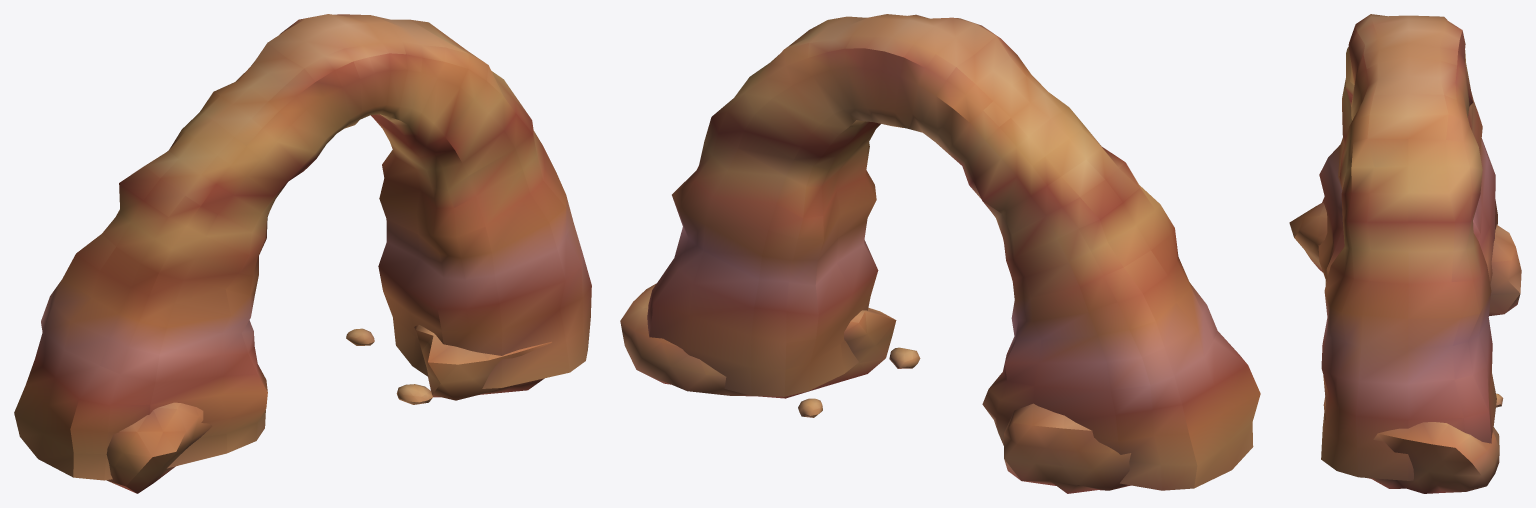
File: amber_arch_sandstone_b.glb
3 views of the same model, side by side, from view 1: azimuth 30°, elevation 25°; view 2: azimuth 150°, elevation 25°; view 3: azimuth 270°, elevation 25° (orthographic). The views are drawn at different scales.
Parts seen in each view (by area): view 1: amber_arch_sandstone_b; view 2: amber_arch_sandstone_b; view 3: amber_arch_sandstone_b.
Boxes of the visible parts, box(x1,y1,x2,y2) form: amber_arch_sandstone_b: box(14, 14, 591, 493); amber_arch_sandstone_b: box(620, 14, 1260, 493); amber_arch_sandstone_b: box(1289, 14, 1521, 493).
Size of the model in its own units: 24.7 by 15.8 by 9.22.
